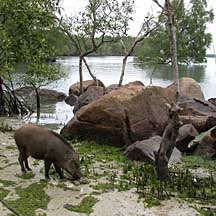boar: (13, 119, 85, 183)
